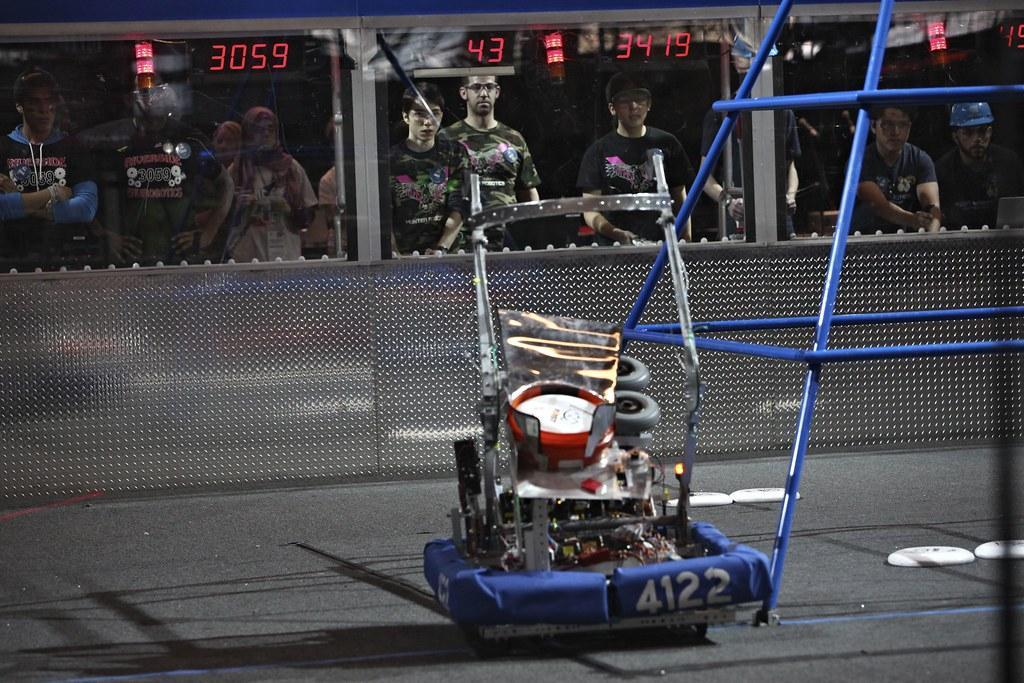robot: (415, 127, 784, 656)
